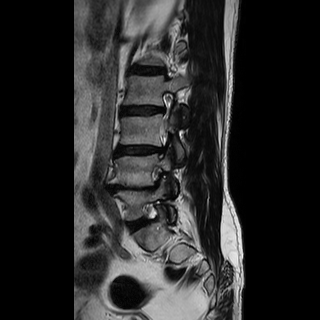RFS0: (136, 196, 165, 227)
